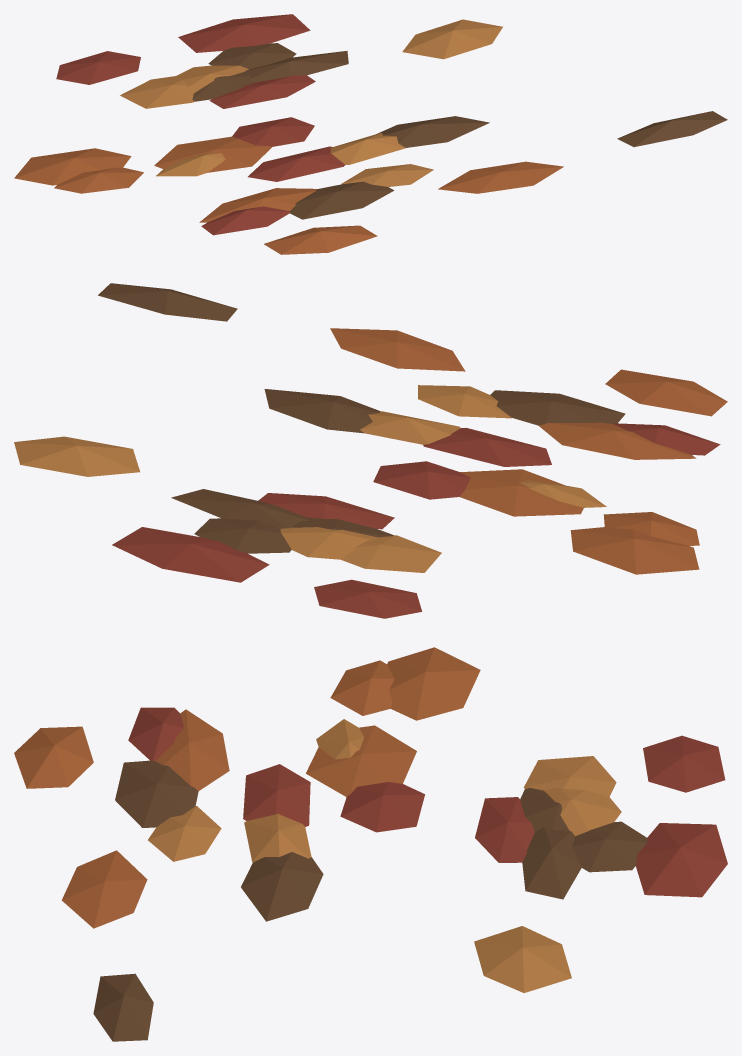
The model's file is flat.leaves.a.glb.
The picture shows the model from 3 angles, top to bottom: view 1: azimuth 30°, elevation 25°; view 2: azimuth 150°, elevation 25°; view 3: azimuth 270°, elevation 25°; orthographic projection. The views are drawn at different scales.
Size of the model in its own units: 0.8312 by 0.0125 by 0.6358.
